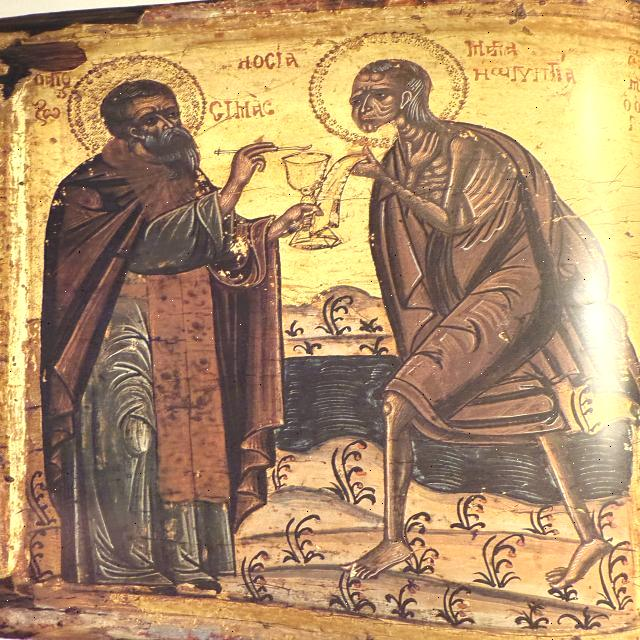aura: (311, 30, 471, 146), (63, 57, 211, 155)
chalice: (283, 152, 349, 250)
saint: (311, 32, 621, 570), (36, 52, 316, 599)
